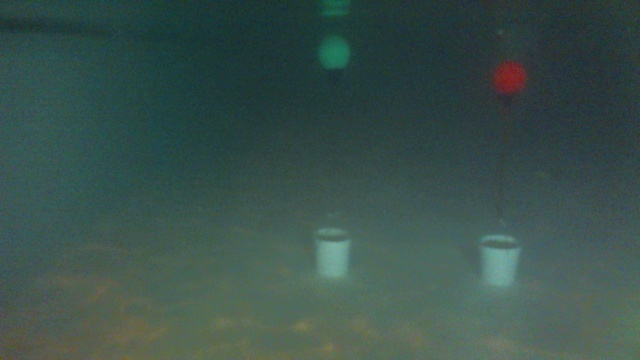buoy_green: (316, 31, 351, 87)
buoy_red: (491, 62, 525, 101)
